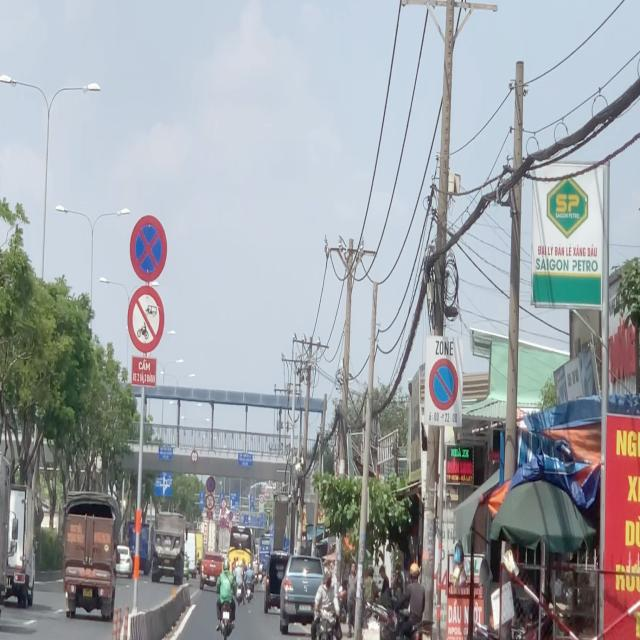Cam con lai: (128, 286, 164, 353)
Cam do: (428, 356, 459, 411)
Cam dung va do: (128, 212, 168, 284)
